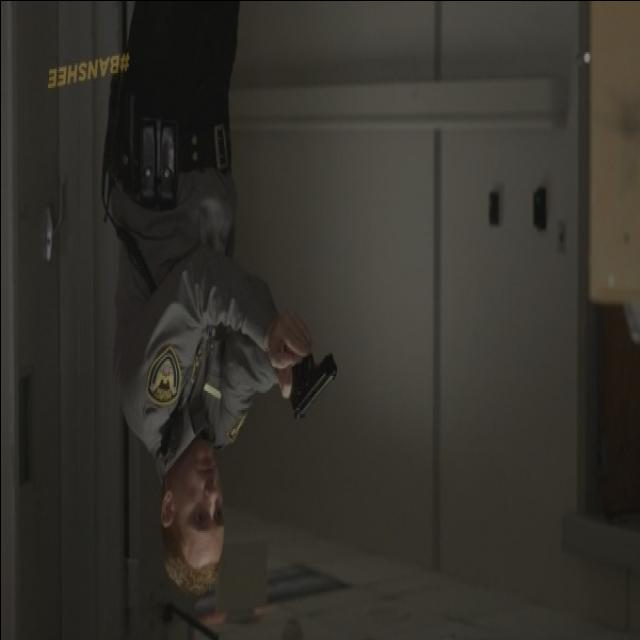weapons: (277, 311, 335, 441)
